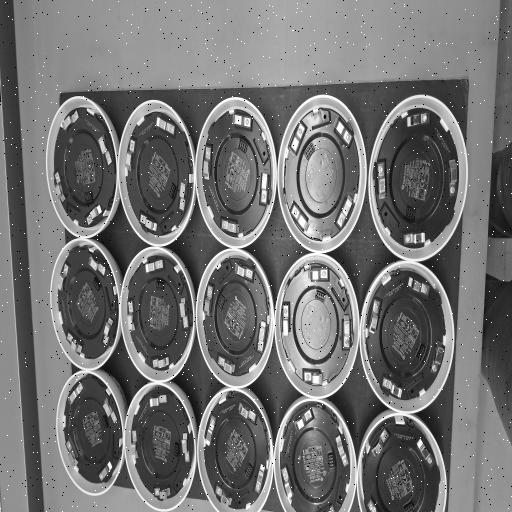yayli: (366, 294, 385, 339), (372, 157, 389, 205), (335, 189, 353, 234), (288, 119, 306, 164), (288, 201, 311, 236), (330, 114, 355, 146), (428, 334, 446, 377), (380, 372, 405, 402), (414, 436, 436, 470), (278, 298, 293, 344), (334, 431, 350, 474), (154, 114, 179, 141), (230, 109, 257, 134), (232, 257, 256, 285), (338, 311, 354, 352), (400, 108, 431, 129), (220, 213, 244, 240), (58, 106, 81, 134), (290, 406, 313, 434), (253, 314, 267, 360), (305, 264, 332, 287), (136, 208, 158, 236), (445, 156, 459, 199), (370, 428, 390, 458), (299, 368, 329, 388), (406, 275, 432, 298), (57, 258, 73, 295), (201, 282, 215, 324), (100, 315, 116, 351), (399, 229, 429, 248), (53, 166, 67, 206), (85, 254, 109, 277), (214, 354, 237, 378), (237, 399, 257, 426), (98, 130, 112, 168), (202, 140, 214, 184), (215, 483, 235, 509), (124, 138, 138, 175), (281, 466, 295, 502), (140, 256, 166, 275), (66, 381, 84, 408), (66, 329, 84, 356), (204, 416, 219, 448), (126, 296, 138, 336), (97, 456, 114, 484), (179, 296, 191, 334), (151, 352, 173, 372), (254, 463, 266, 498), (66, 440, 80, 470), (153, 481, 171, 504), (86, 203, 104, 226), (260, 168, 270, 207), (181, 428, 190, 471), (147, 392, 168, 410), (130, 424, 139, 465), (178, 178, 188, 214), (103, 397, 115, 420)
